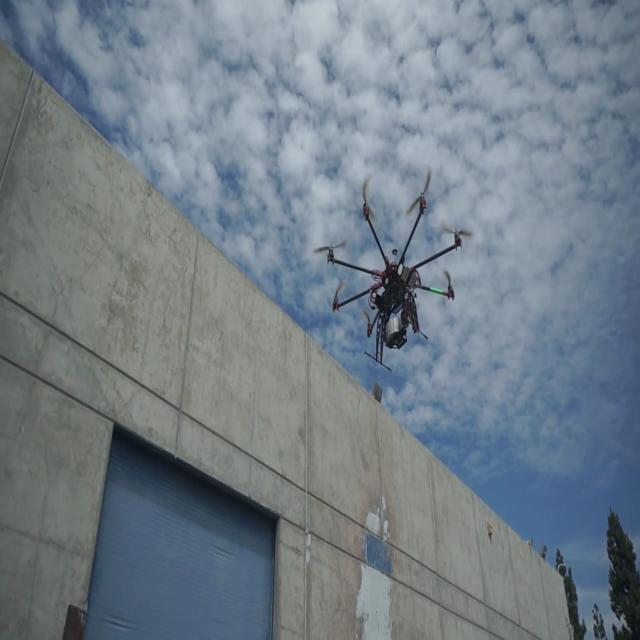drone: (306, 177, 480, 374)
